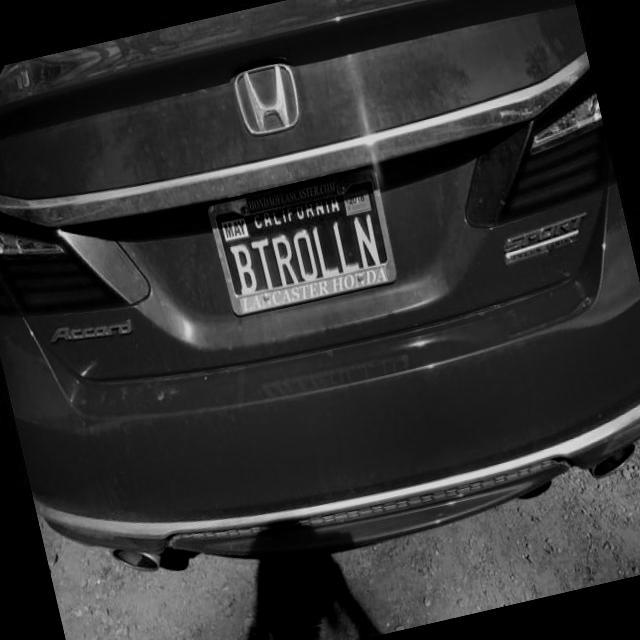LicensePlate: (204, 165, 399, 315)
